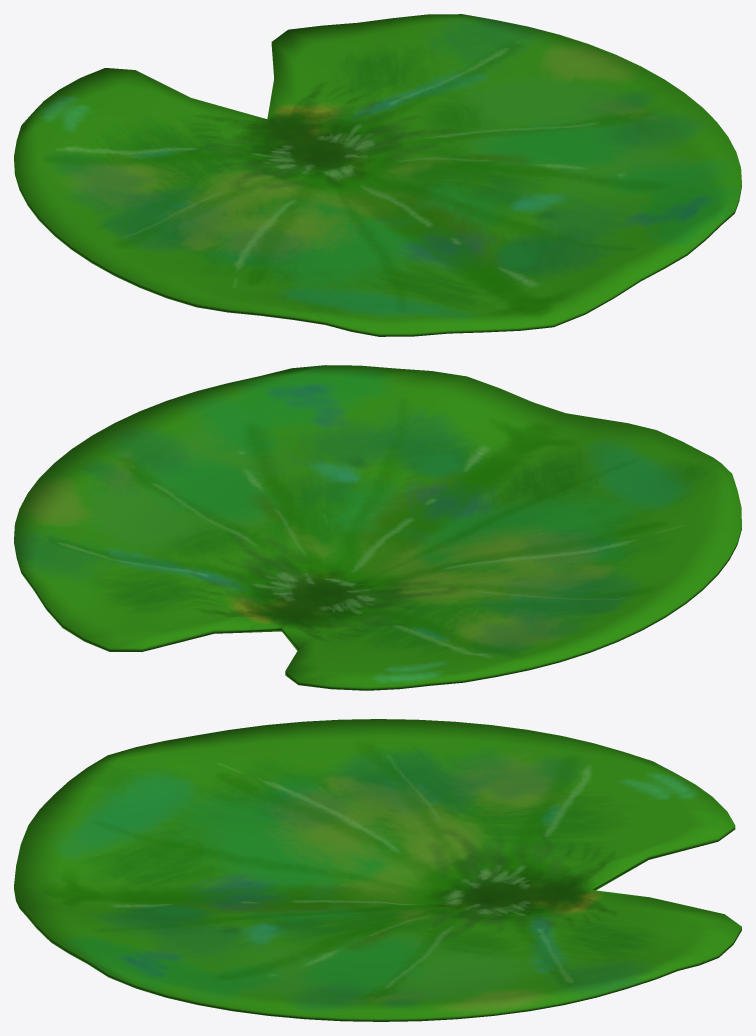
The model's file is propLillyPad2.fbx.
3 renders of one model, top to bottom at view 1: azimuth 30°, elevation 25°; view 2: azimuth 150°, elevation 25°; view 3: azimuth 270°, elevation 25°, orthographic.
Parts seen in each view (by area): view 1: Lilly_Pad_LOD0; view 2: Lilly_Pad_LOD0; view 3: Lilly_Pad_LOD0.
Boxes of the visible parts, x1,y1,x2,y2 form: Lilly_Pad_LOD0: [14, 14, 741, 336]; Lilly_Pad_LOD0: [14, 365, 741, 690]; Lilly_Pad_LOD0: [14, 719, 741, 1021].
Size of what is drawn, in the model's own units: 175 by 12.18 by 178.
Materials: 1 (1 with a texture image).
